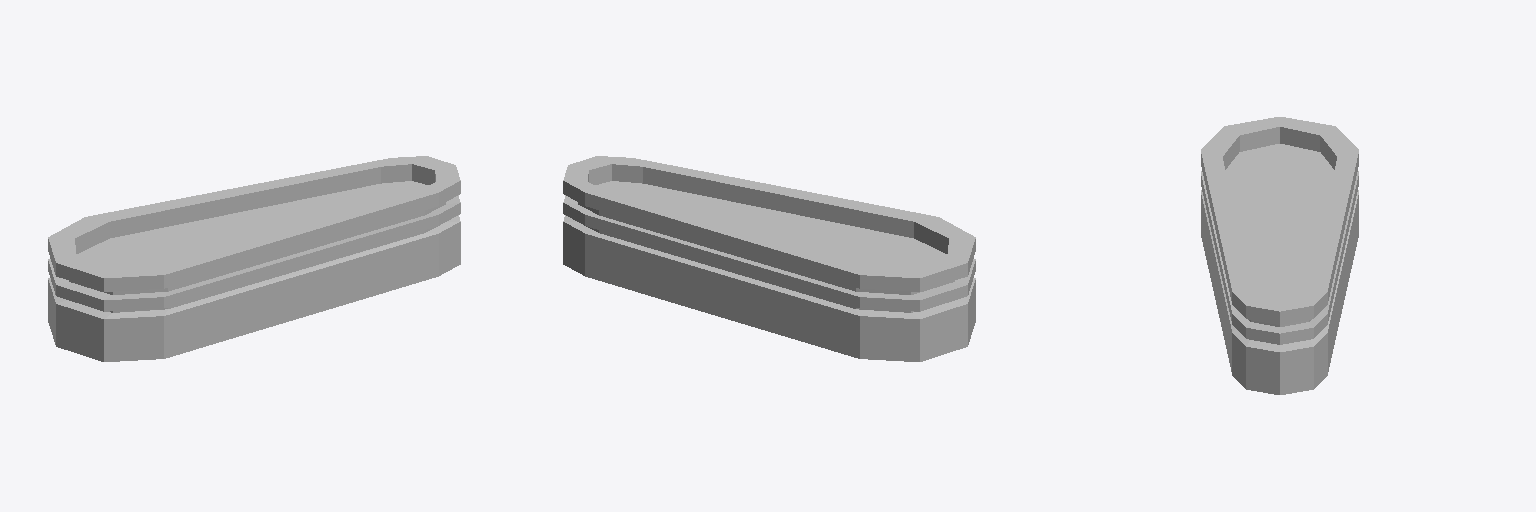
Rendered from flipper.obj.
3 views of the same model, side by side, from view 1: azimuth 30°, elevation 25°; view 2: azimuth 150°, elevation 25°; view 3: azimuth 270°, elevation 25° (orthographic).
Parts seen in each view (by area): view 1: Flippers_2_X_01:Mesh; view 2: Flippers_2_X_01:Mesh; view 3: Flippers_2_X_01:Mesh.
Boxes of the visible parts, x1=… form: Flippers_2_X_01:Mesh: x1=48, y1=156, x2=460, y2=361; Flippers_2_X_01:Mesh: x1=563, y1=156, x2=975, y2=361; Flippers_2_X_01:Mesh: x1=1201, y1=117, x2=1358, y2=394.
Size of the model in its own units: 1.47 by 0.294 by 0.504.